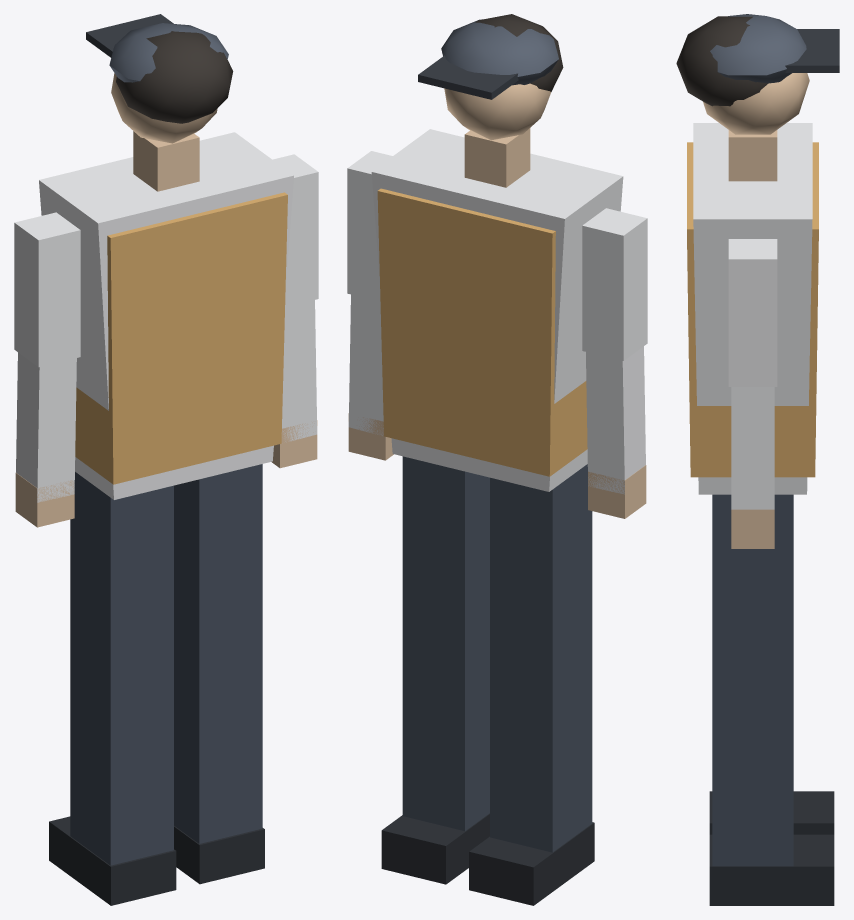
File: taxi.glb
3 renders of one model, left to right at view 1: azimuth 30°, elevation 25°; view 2: azimuth 150°, elevation 25°; view 3: azimuth 270°, elevation 25°, orthographic.
Parts seen in each view (by area): view 1: Body, LegL, LegR; view 2: Body, LegL, LegR; view 3: Body, LegR, LegL.
Part boxes in pixels (<box>): Body: <box>14,14,318,527</box>; LegL: <box>49,472,176,905</box>; LegR: <box>174,464,264,884</box>; Body: <box>347,14,647,518</box>; LegL: <box>469,464,594,905</box>; LegR: <box>381,456,489,884</box>; Body: <box>676,14,839,548</box>; LegR: <box>709,494,834,905</box>; LegL: <box>709,791,834,834</box>.
Bounding box in the file's own units: 0.6 × 1.73 × 0.3013.
